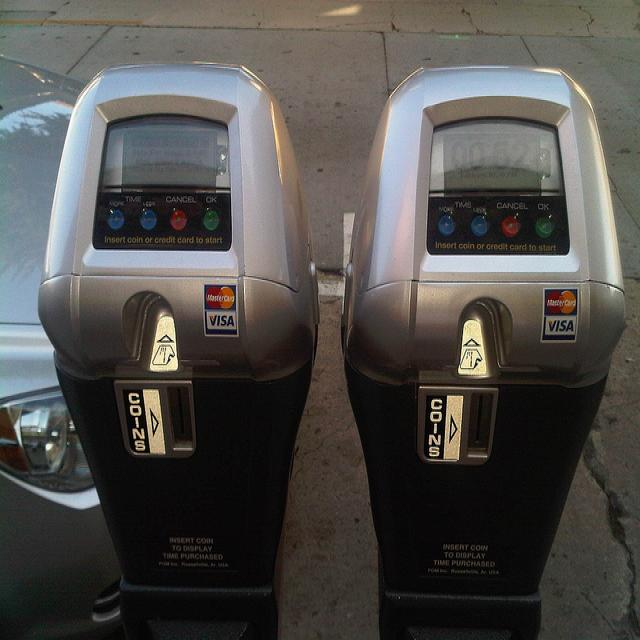Vehicle: (0, 49, 134, 630)
